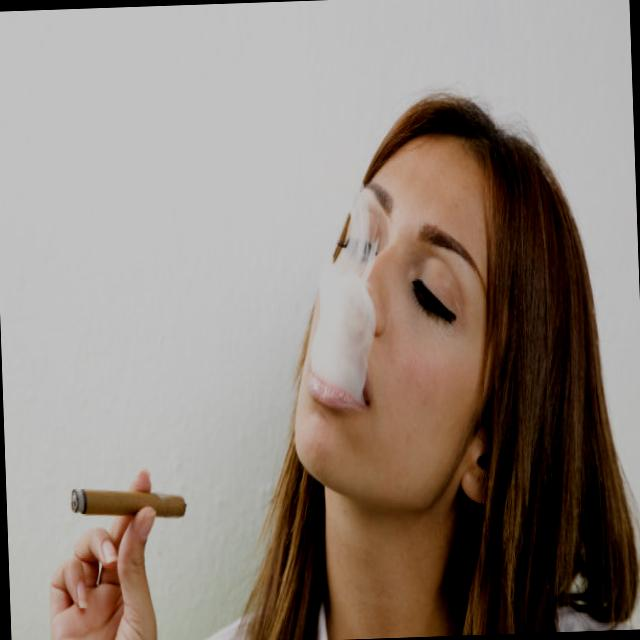smoke: (62, 473, 203, 534)
